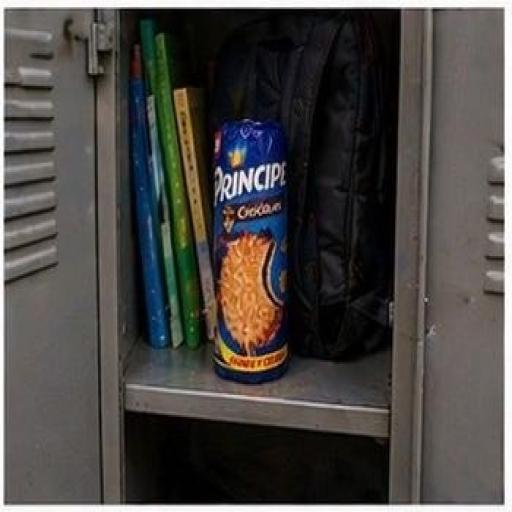prince: (174, 88, 362, 454)
